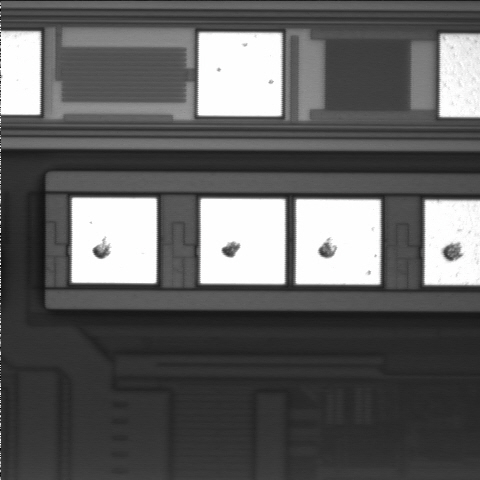pad: (72, 198, 157, 283), (200, 199, 285, 284), (296, 199, 380, 284), (198, 33, 282, 116)
